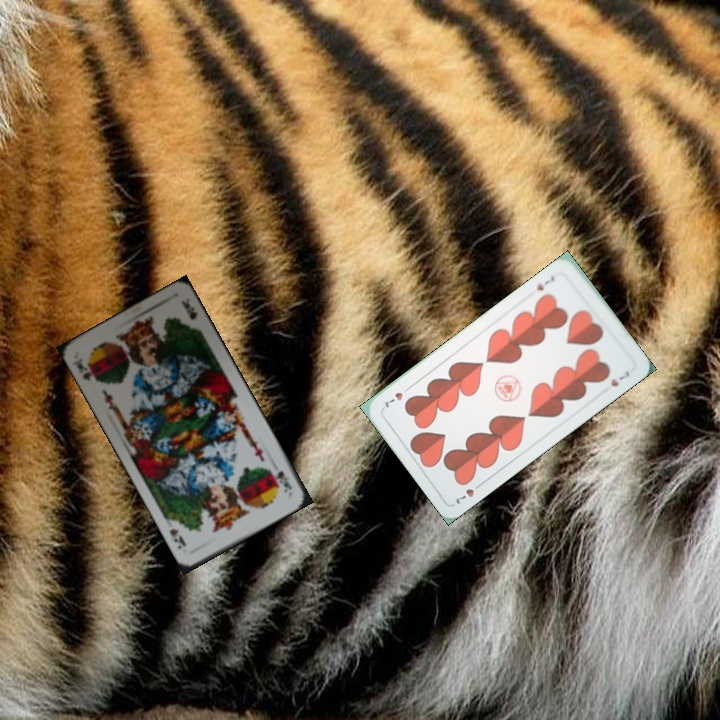H7: (452, 478, 486, 507), (532, 272, 558, 293)
SK: (73, 358, 101, 384), (272, 467, 295, 495)
